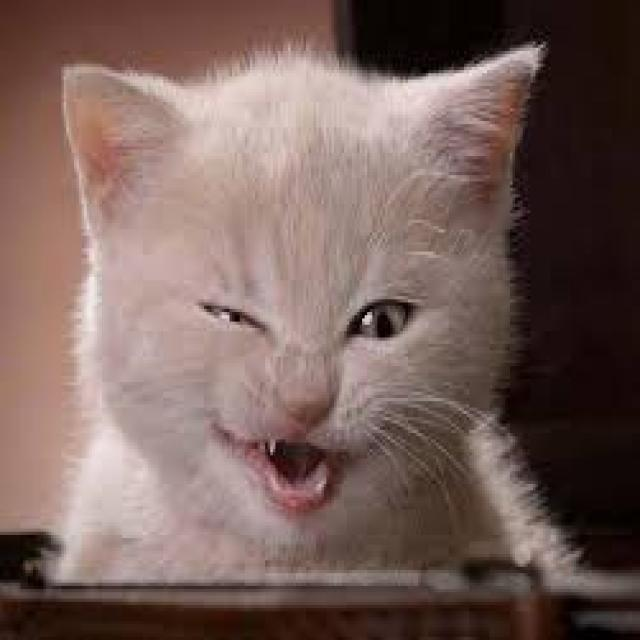cat: (25, 37, 598, 604)
